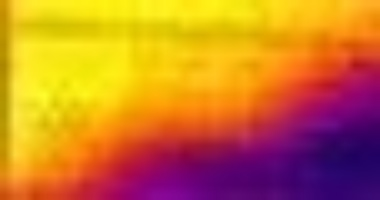Shadow: (87, 120, 380, 200), (314, 55, 379, 120)
